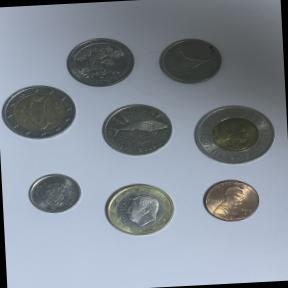1 Euro-B: (96, 176, 184, 243)
2 Euro-B: (0, 81, 79, 144)
Canada-10cent-B: (22, 166, 86, 218)
Canada-2Dollar-B: (185, 94, 283, 172)
Croatia-2Kune-B: (96, 96, 178, 164)
US-1cent-B: (195, 174, 266, 228)
US-25cent-B: (60, 34, 140, 92)
